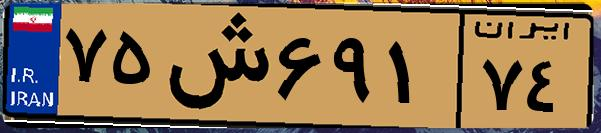1: (385, 28, 445, 110)
4: (525, 38, 570, 115)
5: (110, 28, 158, 98)
6: (270, 28, 330, 110)
7: (57, 26, 110, 100), (475, 38, 525, 113)
9: (330, 28, 385, 110)
ش: (158, 12, 270, 120)
